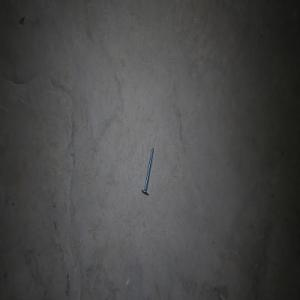Bolt: (141, 146, 154, 195)
